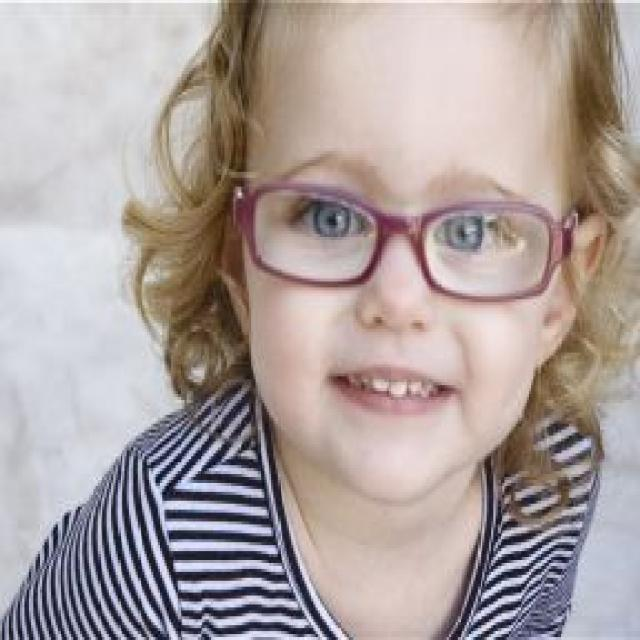Glasses: (229, 170, 582, 308)
